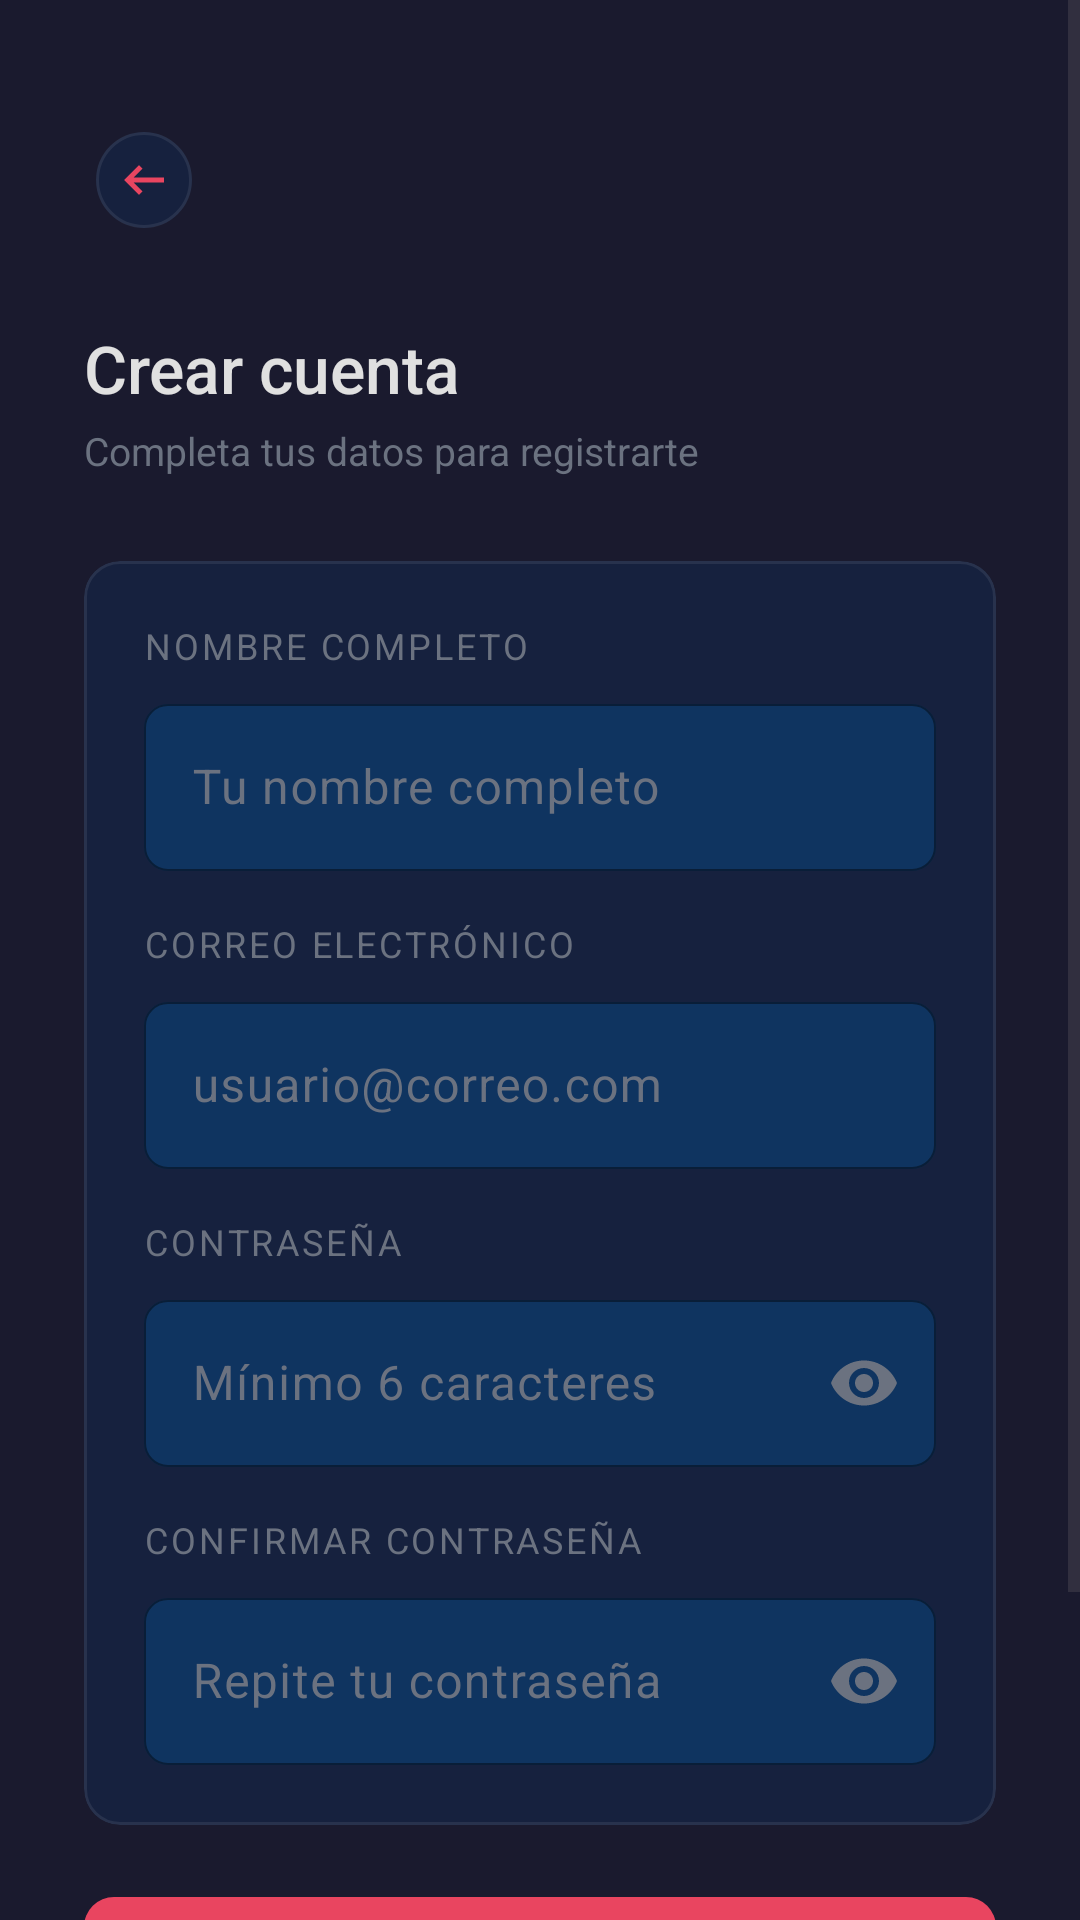

Screen size 1080 × 1920. Icon name, then its box in pixels as box=[x1, y1, x2, y2]:
arrow left: box=[96, 132, 192, 228]
